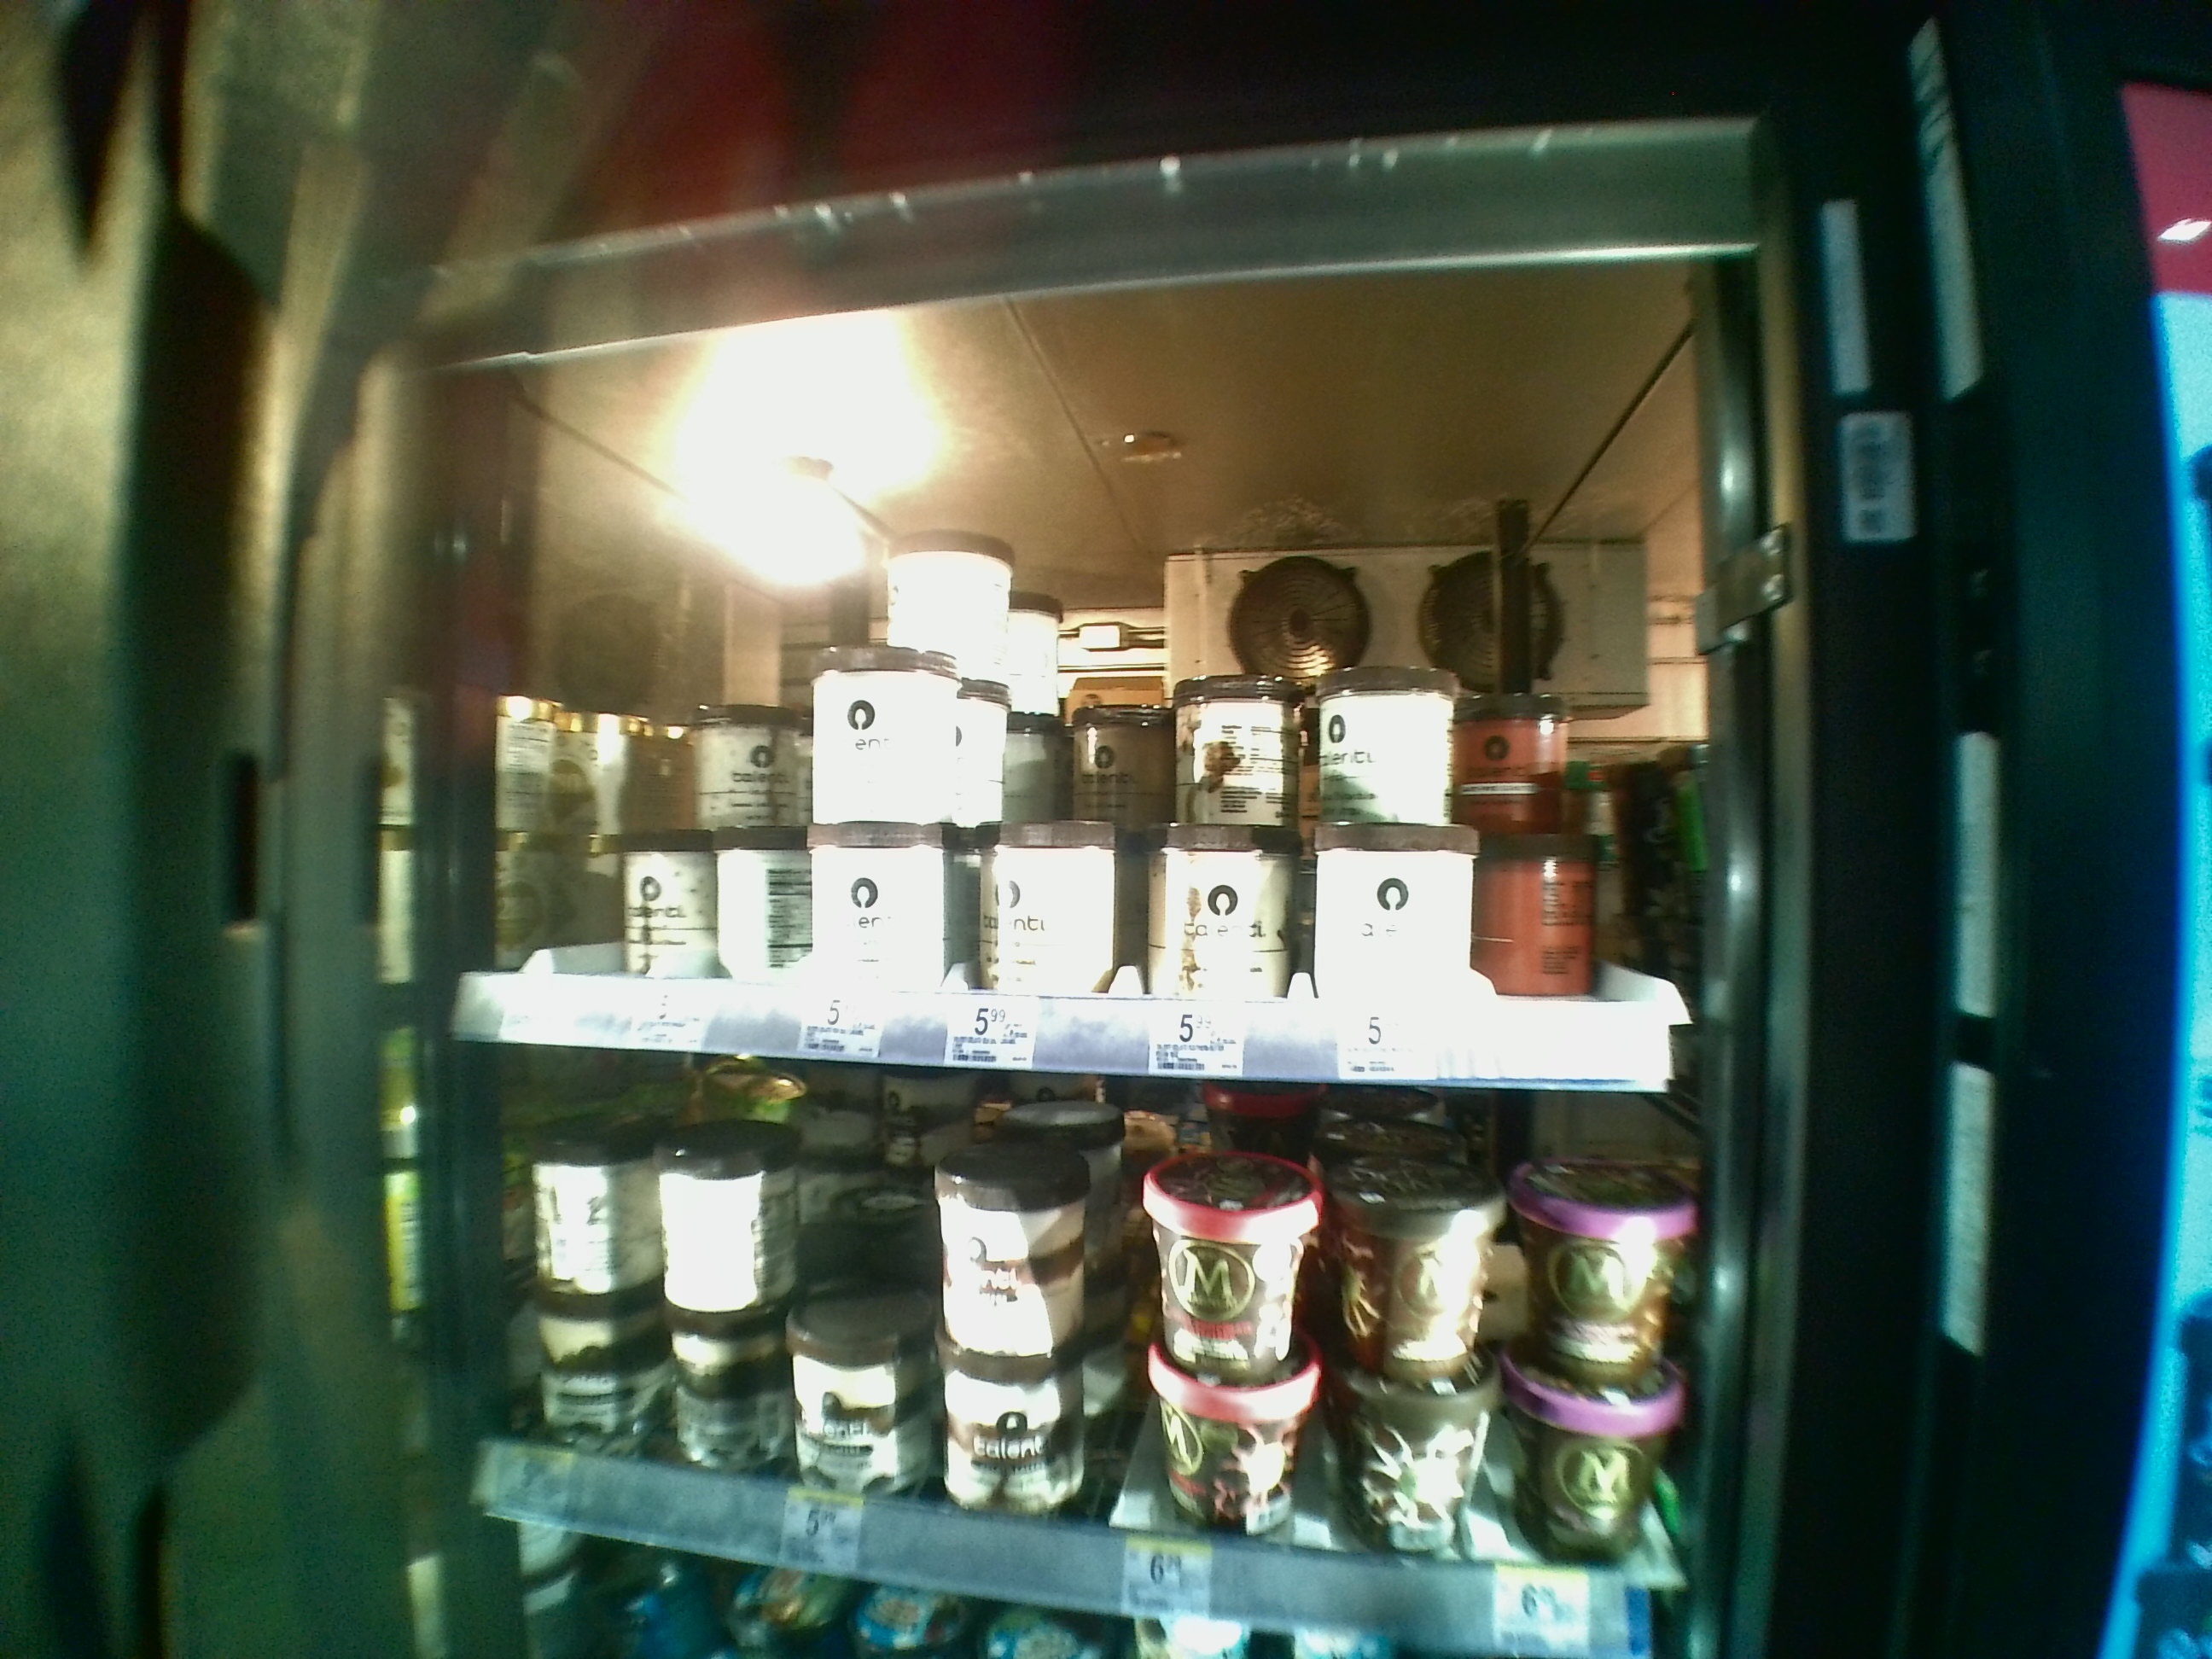shelf: (451, 376, 1709, 1068)
